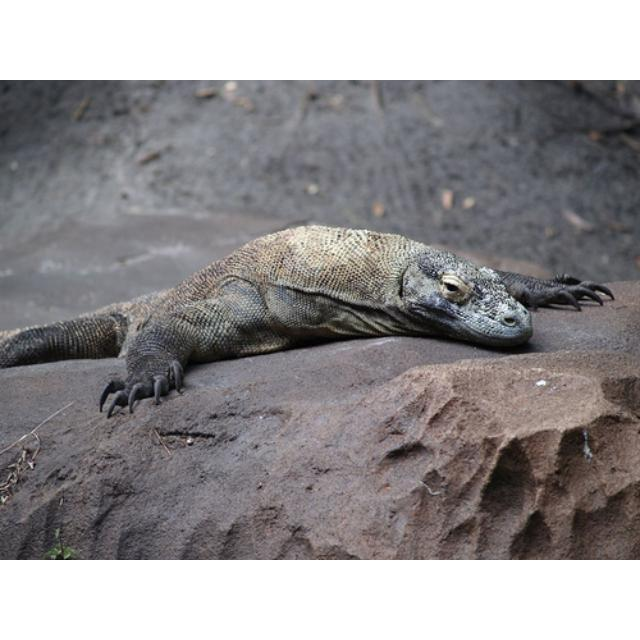KomodoDragon: (1, 229, 614, 415)
